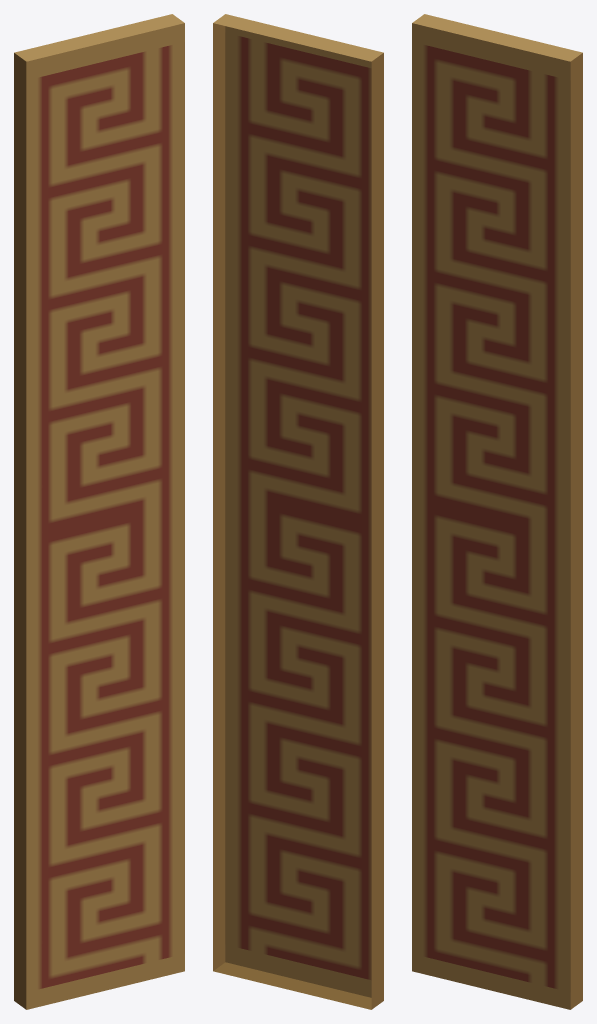
The model's file is SM_Prop_Banner_Small_03.glb.
The picture shows the model from 3 angles, left to right: view 1: azimuth 30°, elevation 25°; view 2: azimuth 150°, elevation 25°; view 3: azimuth 330°, elevation 25°; orthographic projection.
Parts seen in each view (by area): view 1: SM_Prop_Banner_Small_03; view 2: SM_Prop_Banner_Small_03; view 3: SM_Prop_Banner_Small_03.
Part boxes in pixels (bbox=[...]): SM_Prop_Banner_Small_03: bbox=[14, 14, 184, 1009]; SM_Prop_Banner_Small_03: bbox=[213, 14, 383, 1009]; SM_Prop_Banner_Small_03: bbox=[412, 14, 582, 1009].
Size of the model in its own units: 0.00392 by 0.0224 by 0.000532.
Materials: 1 (1 with a texture image).
